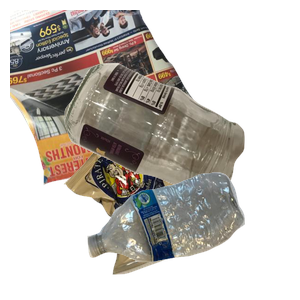glass: (62, 60, 300, 240)
paper: (10, 10, 230, 188)
plastic: (85, 170, 300, 300)
trash: (61, 127, 260, 300)
